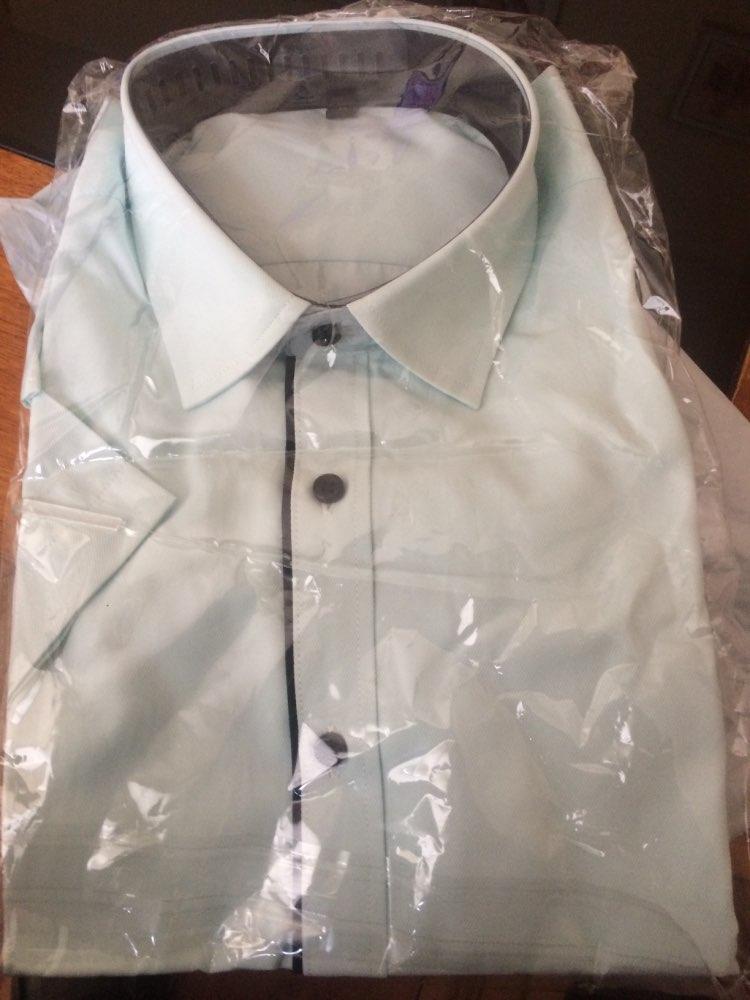shirts: (50, 51, 682, 965)
